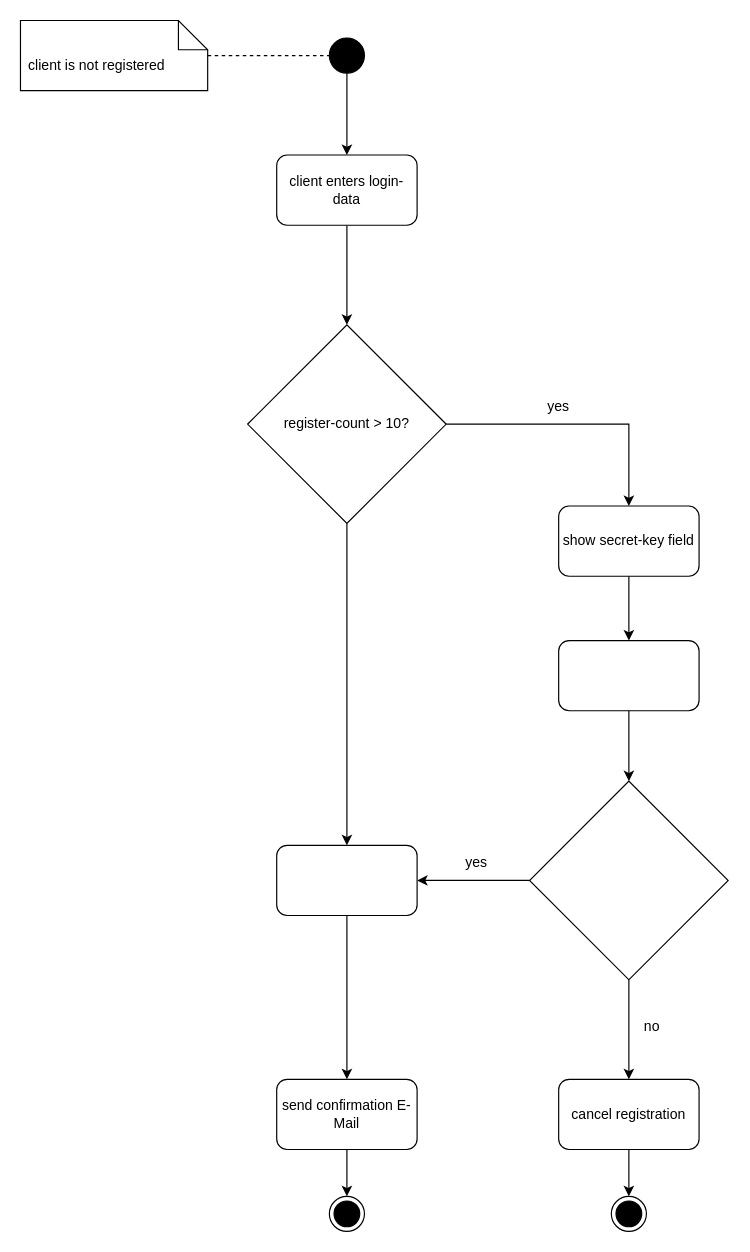
This 750x1252 diagram has some shape labels left out. Here are the shapes that lost their labels. From the top down, the box of each, then its label:
(558, 639, 699, 711): user enters secret-key
(276, 844, 417, 916): activate account
(528, 780, 728, 980): secret-key correct?
